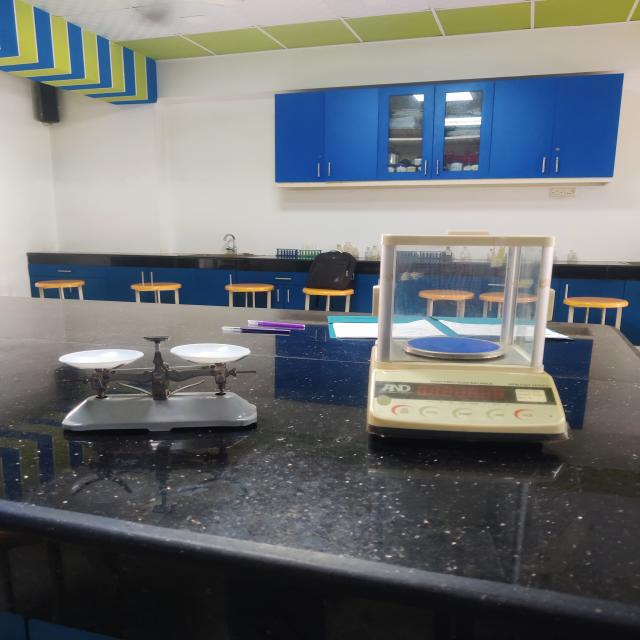Mechanical_Balance_Scale: (43, 312, 290, 462)
Precision_Weight_Scale: (316, 204, 591, 468)
